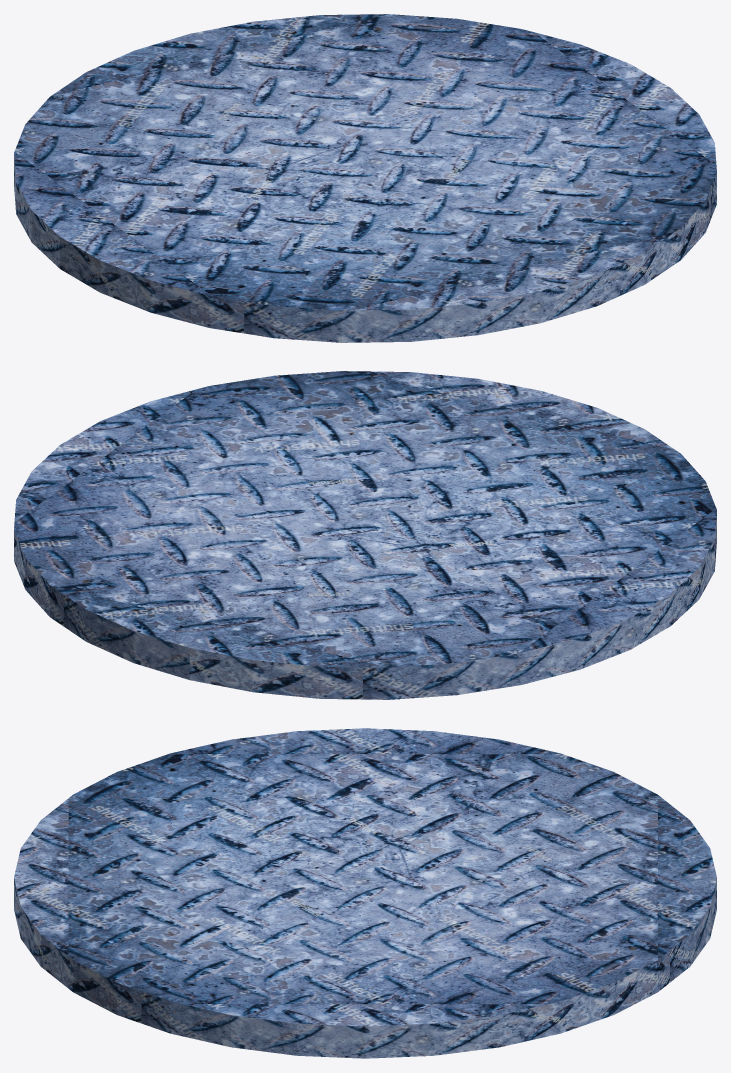
File: basePinball.obj
The picture shows the model from 3 angles, top to bottom: view 1: azimuth 30°, elevation 25°; view 2: azimuth 150°, elevation 25°; view 3: azimuth 270°, elevation 25°; orthographic projection.
Parts seen in each view (by area): view 1: Cilindro; view 2: Cilindro; view 3: Cilindro.
Part boxes in pixels (box(x1,y1,x2,y2)): Cilindro: box(14, 14, 716, 342); Cilindro: box(14, 371, 716, 699); Cilindro: box(14, 728, 716, 1058).
Size of the model in its own units: 9.6 by 0.4836 by 9.56.
